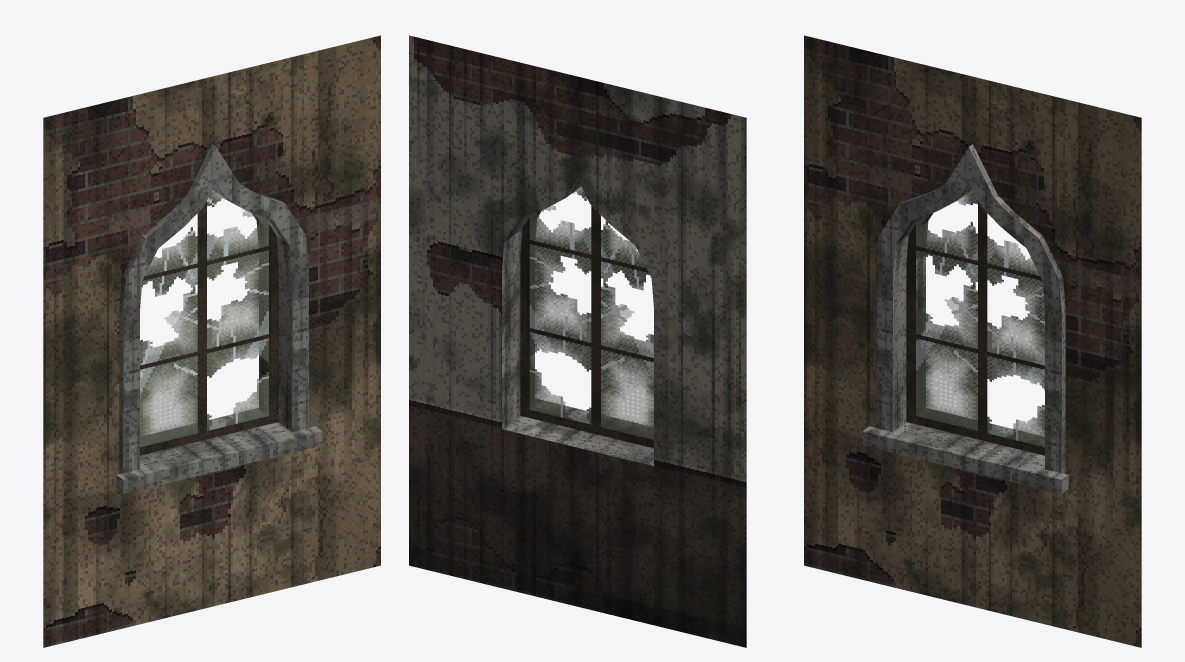
File: ext_window_gothic_broken.gltf
3 renders of one model, left to right at view 1: azimuth 30°, elevation 25°; view 2: azimuth 150°, elevation 25°; view 3: azimuth 330°, elevation 25°, orthographic.
Parts seen in each view (by area): view 1: ext_window_gothic_broken, ext_window_gothic_broken_loose; view 2: ext_window_gothic_broken, ext_window_gothic_broken_loose; view 3: ext_window_gothic_broken, ext_window_gothic_broken_loose.
Boxes of the visible parts, box(x1,y1,x2,y2) form: ext_window_gothic_broken: box(43, 35, 380, 647); ext_window_gothic_broken_loose: box(140, 189, 278, 455); ext_window_gothic_broken: box(409, 35, 746, 647); ext_window_gothic_broken_loose: box(520, 186, 653, 448); ext_window_gothic_broken: box(804, 35, 1141, 647); ext_window_gothic_broken_loose: box(906, 189, 1044, 455).
Size of what is drawn, in the model's own units: 2 by 3 by 0.41.
4 materials, 4 textured.
